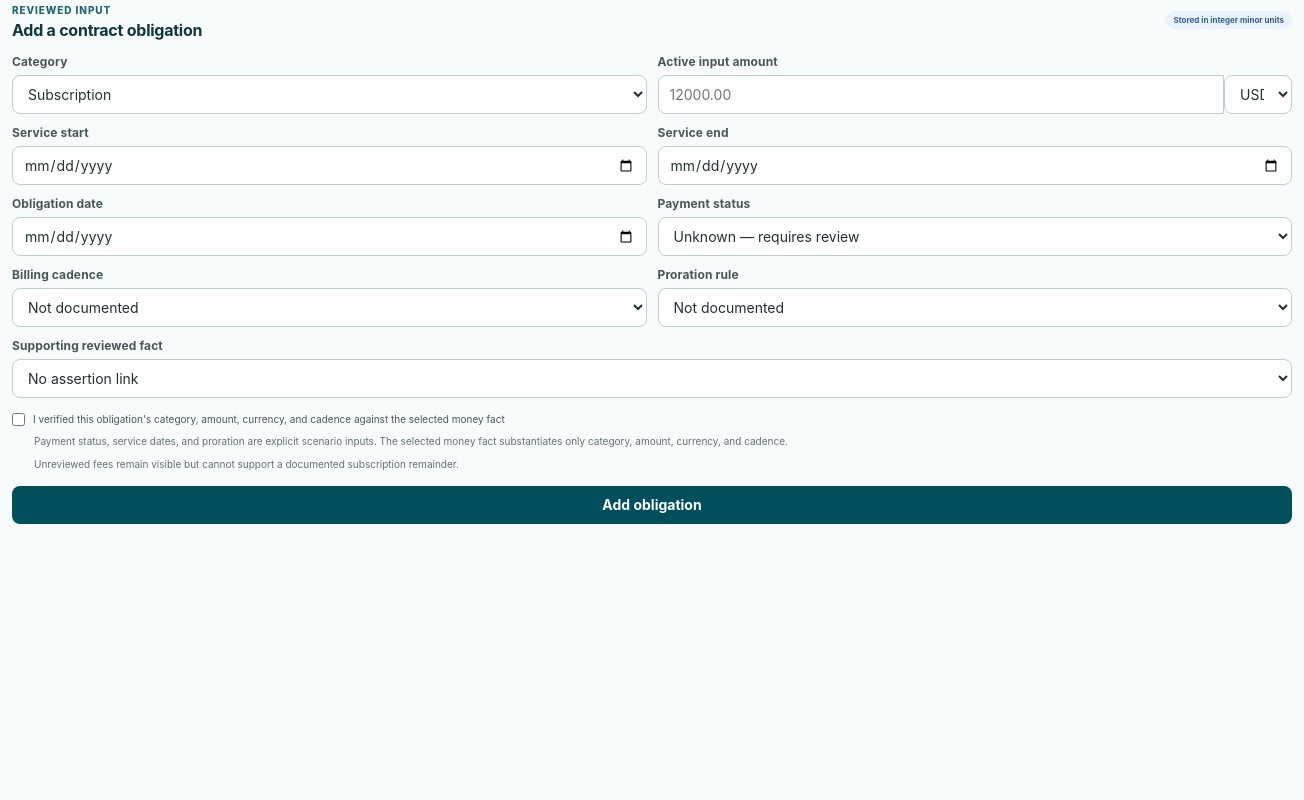
Test: economics fee entry › requires an explicit cadence before a fee can be recorded as reviewed
The image size is (1304, 800).
Type "12000.45" into the field labelled "Active input amount" at (941, 94), box [658,75,1224,114]
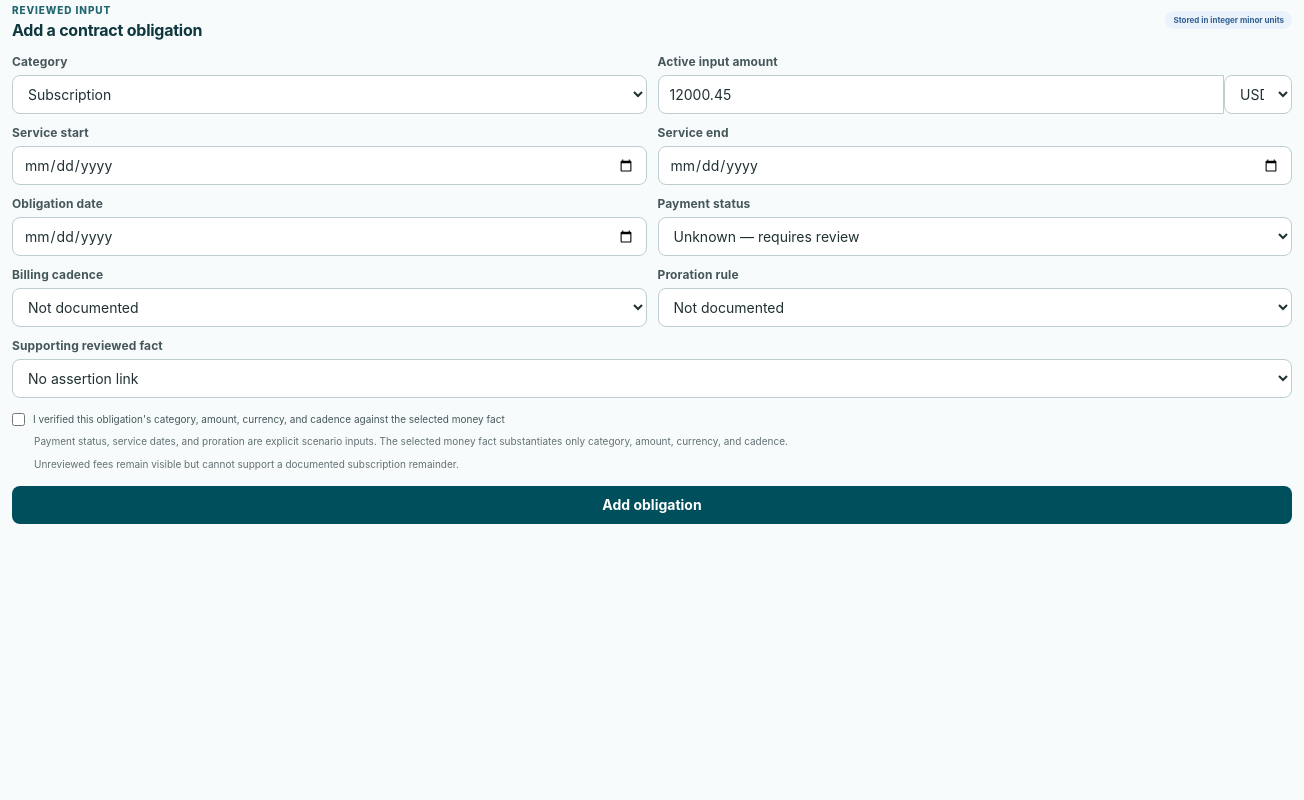
Select "Fee · subscription — USD 12,000.45 — Source-confirmed" in the dropdown labelled "Supporting reviewed fact" at (652, 378), box [12,359,1292,398]
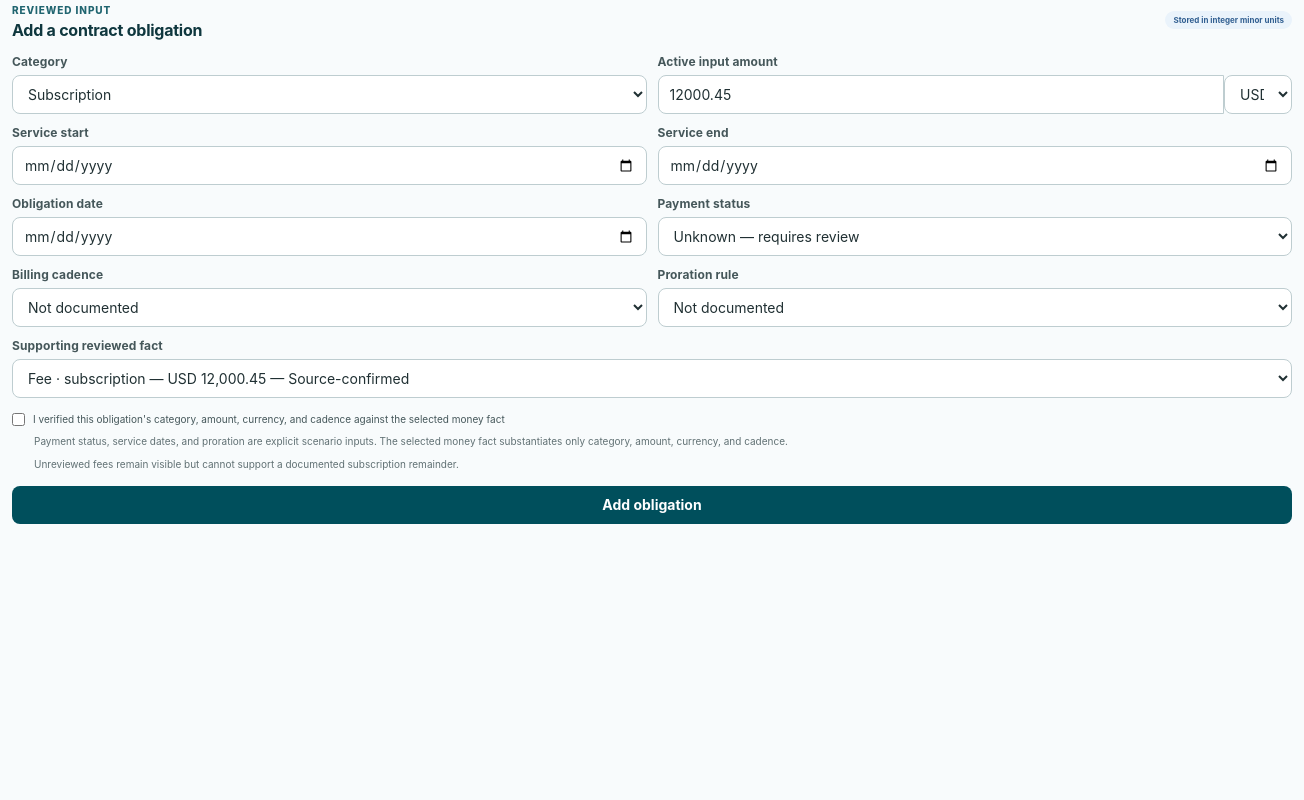
Click the checkbox labelled "verified this obligation" at (18, 420), box [12,413,25,426]
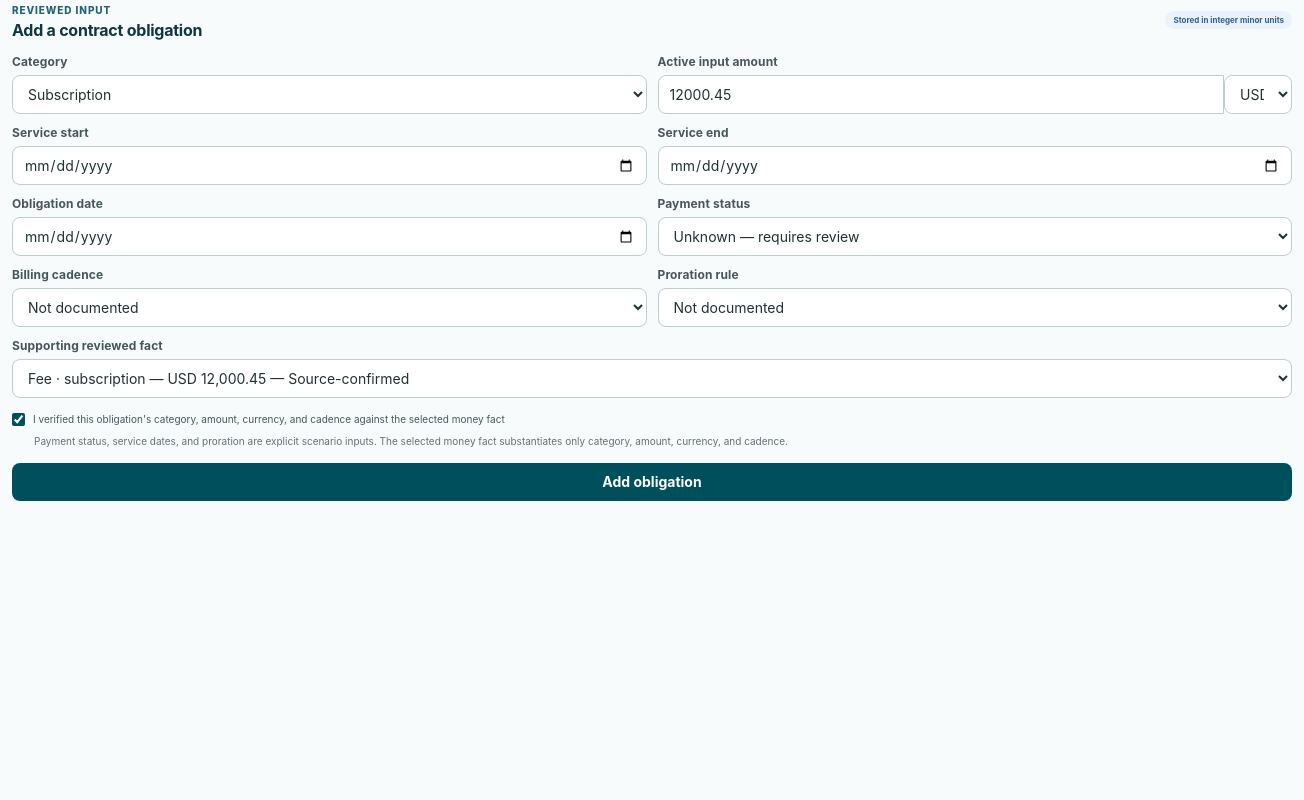
Click the button "Add obligation" at (652, 482), box [12,463,1292,501]
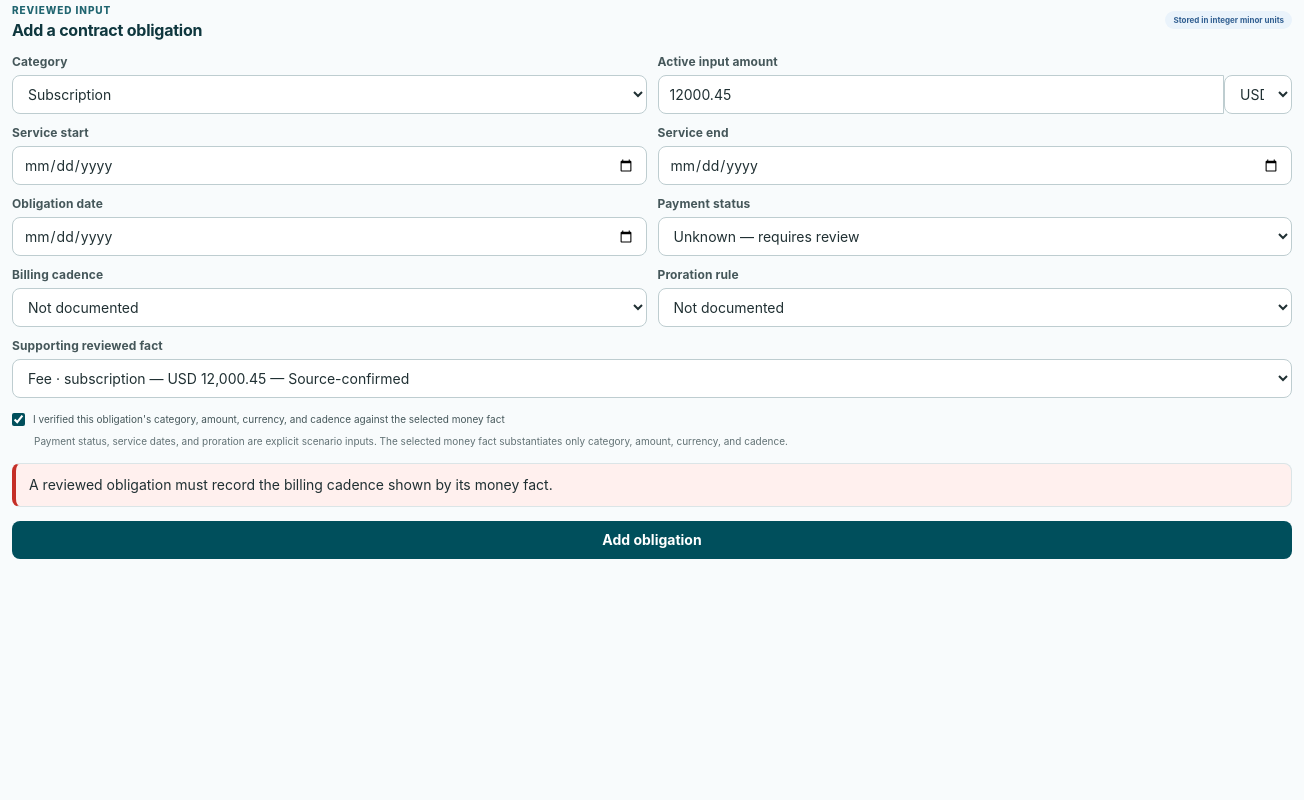
Now the message shows "billing cadence", box [29,476,553,493]
